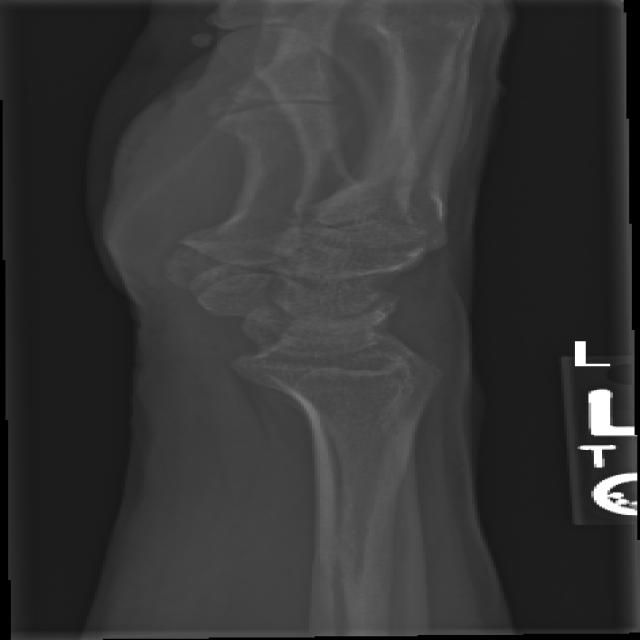fingers positive: (180, 260, 282, 322)
